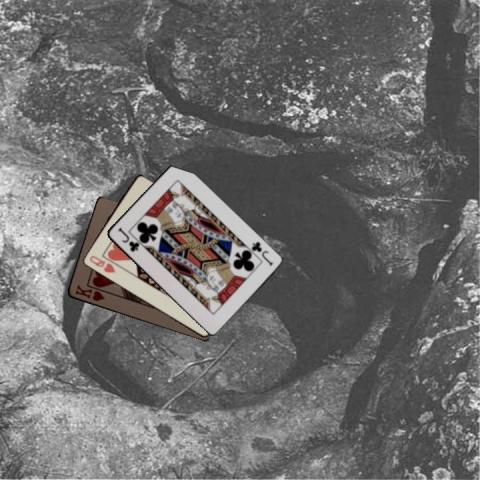Jc: (114, 225, 140, 253), (248, 239, 274, 267)
Kh: (72, 281, 106, 303)
Qh: (86, 252, 117, 274)
